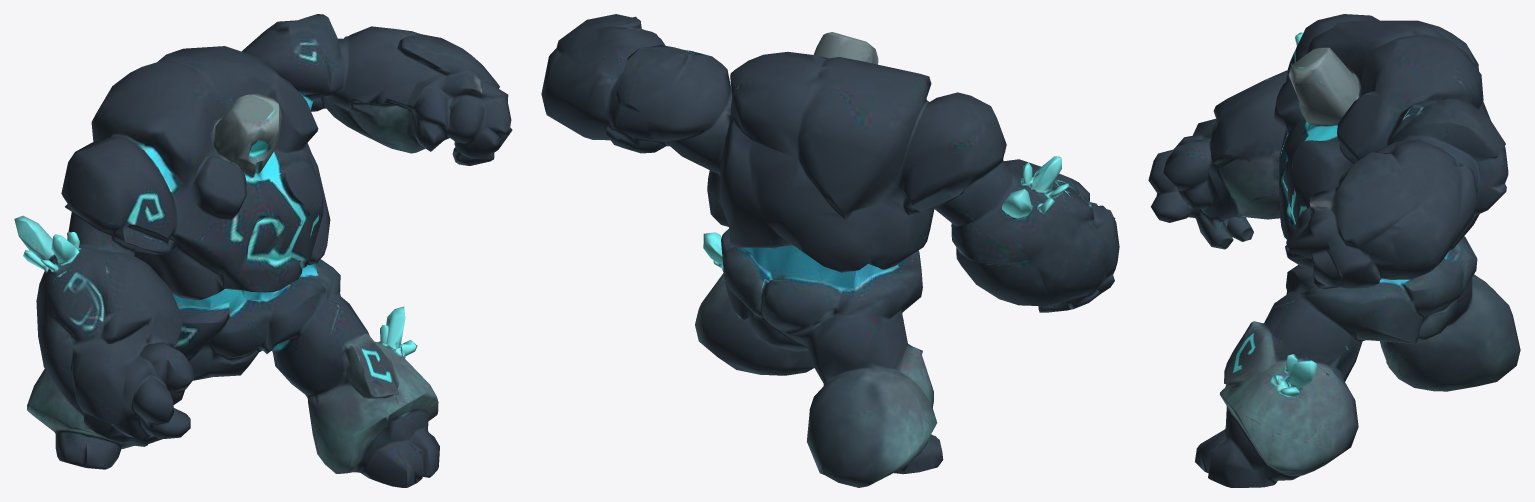
File: blue_buff.glb
3 renders of one model, left to right at view 1: azimuth 30°, elevation 25°; view 2: azimuth 150°, elevation 25°; view 3: azimuth 270°, elevation 25°, orthographic.
Size of the model in its own units: 1.89 by 1.39 by 1.24.
1 material, 1 textured.
